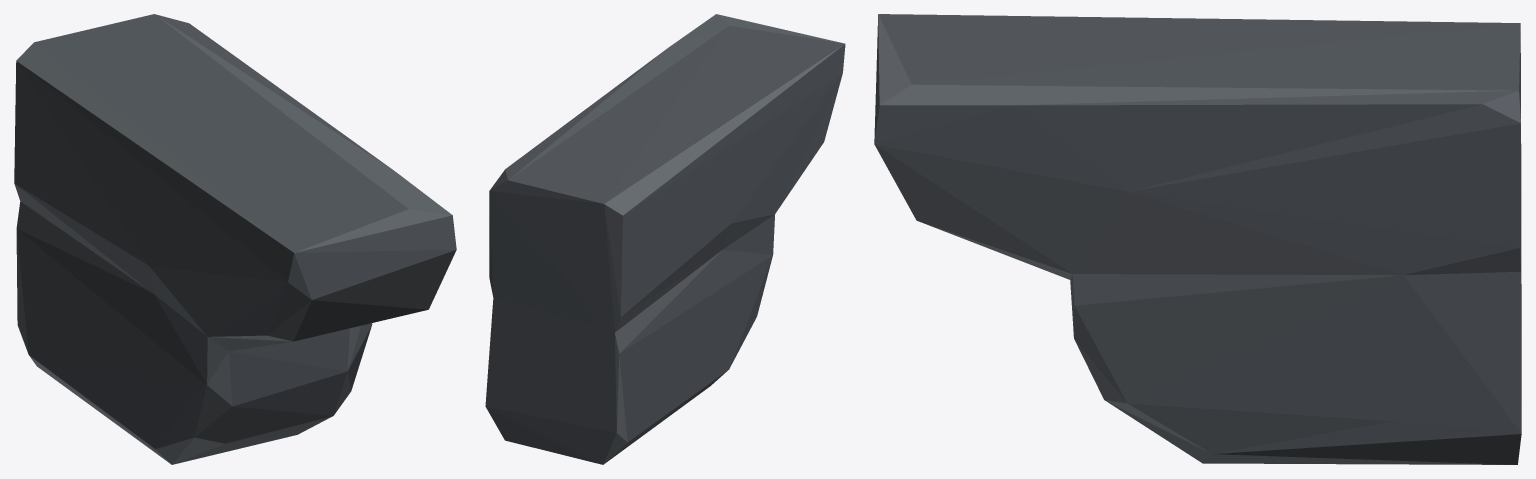
The model's file is MCastle_MasonryFixtures_11.FBX.
3 views of the same model, side by side, from view 1: azimuth 30°, elevation 25°; view 2: azimuth 150°, elevation 25°; view 3: azimuth 270°, elevation 25° (orthographic). The views are drawn at different scales.
Parts seen in each view (by area): view 1: MCastle_MasonryFixtures_11_LOD0; view 2: MCastle_MasonryFixtures_11_LOD0; view 3: MCastle_MasonryFixtures_11_LOD0.
Boxes of the visible parts, x1,y1,x2,y2 form: MCastle_MasonryFixtures_11_LOD0: [14, 14, 456, 464]; MCastle_MasonryFixtures_11_LOD0: [485, 14, 845, 464]; MCastle_MasonryFixtures_11_LOD0: [874, 14, 1521, 464].
Size of what is drawn, in the model's own units: 0.6995 by 1.29 by 2.03.
